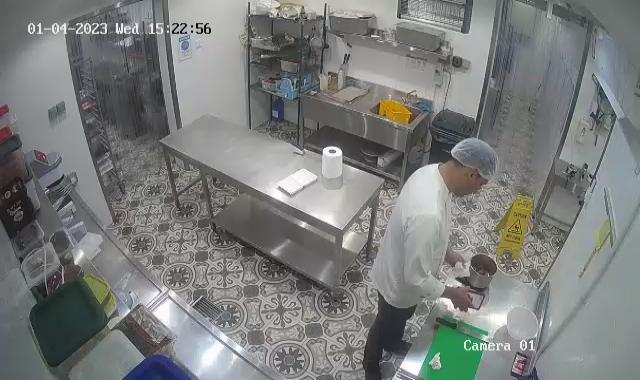hairnet: (450, 137, 500, 178)
